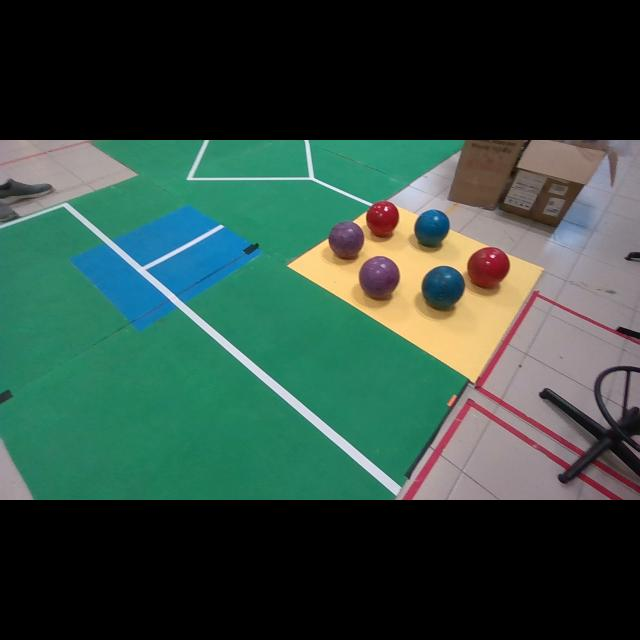B: (421, 266, 465, 309), (415, 210, 450, 246)
P: (359, 256, 400, 299), (329, 221, 364, 259)
R: (468, 248, 510, 289), (366, 201, 399, 238)
